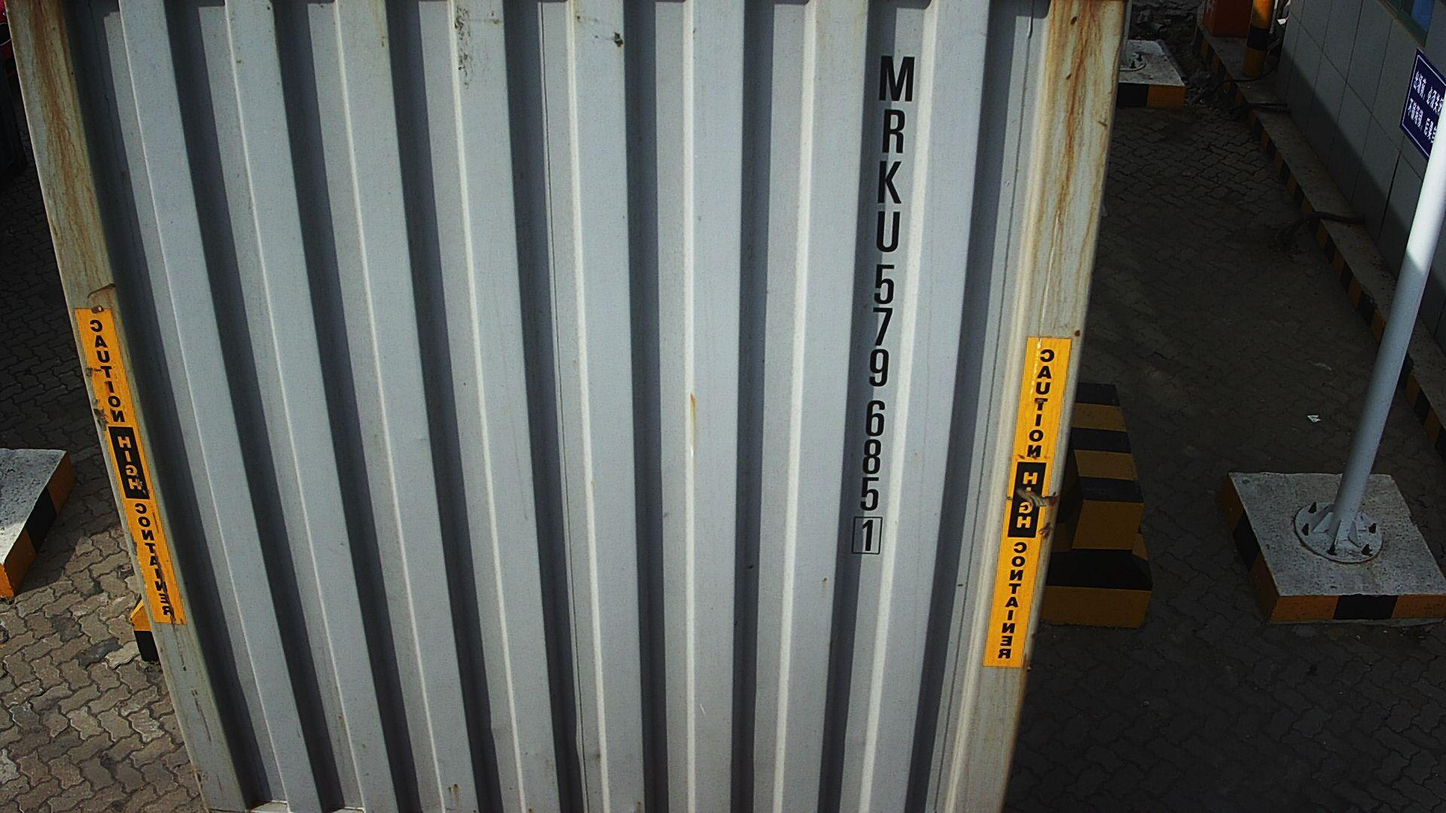container-numbers: (845, 47, 922, 561)
